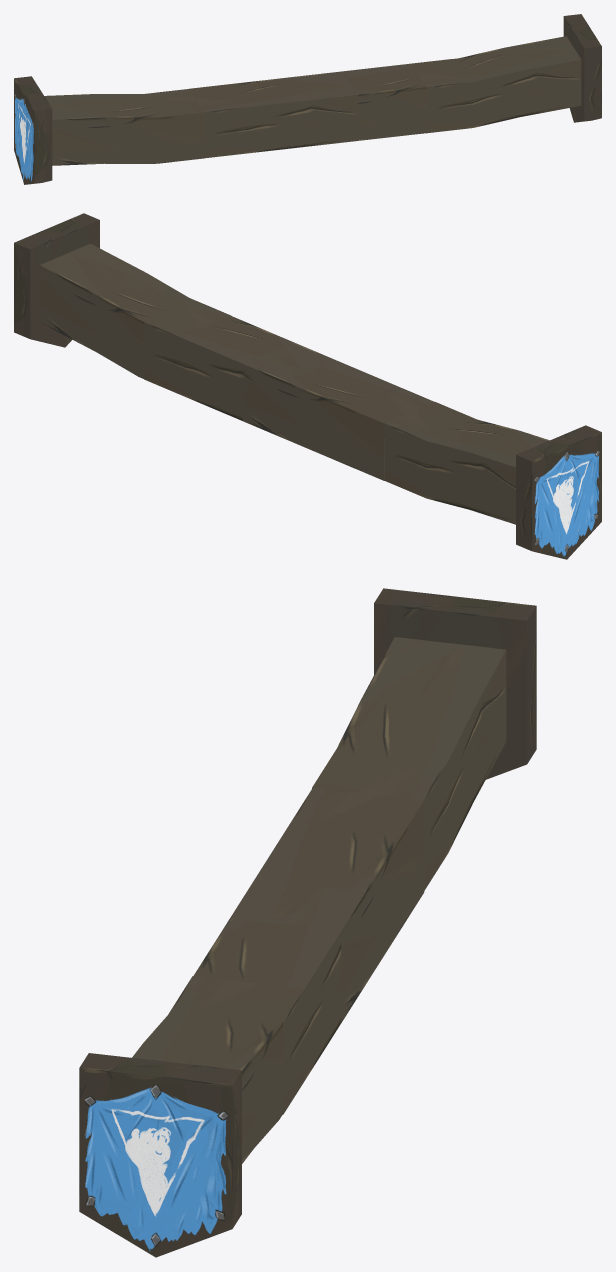
Rendered from polysurface526_txt_poutre_toit_0_lev1_lev2.glb.
3 renders of one model, top to bottom at view 1: azimuth 30°, elevation 25°; view 2: azimuth 150°, elevation 25°; view 3: azimuth 270°, elevation 25°, orthographic. The views are drawn at different scales.
Parts seen in each view (by area): view 1: polysurface526_txt_poutre_toit_0_lev1_lev2; view 2: polysurface526_txt_poutre_toit_0_lev1_lev2; view 3: polysurface526_txt_poutre_toit_0_lev1_lev2.
Boxes of the visible parts, box(x1,y1,x2,y2) form: polysurface526_txt_poutre_toit_0_lev1_lev2: box(14, 14, 601, 184); polysurface526_txt_poutre_toit_0_lev1_lev2: box(14, 213, 601, 559); polysurface526_txt_poutre_toit_0_lev1_lev2: box(79, 588, 536, 1257).
Size of the model in its own units: 7.98 by 1.36 by 3.1.
Materials: 1 (1 with a texture image).
